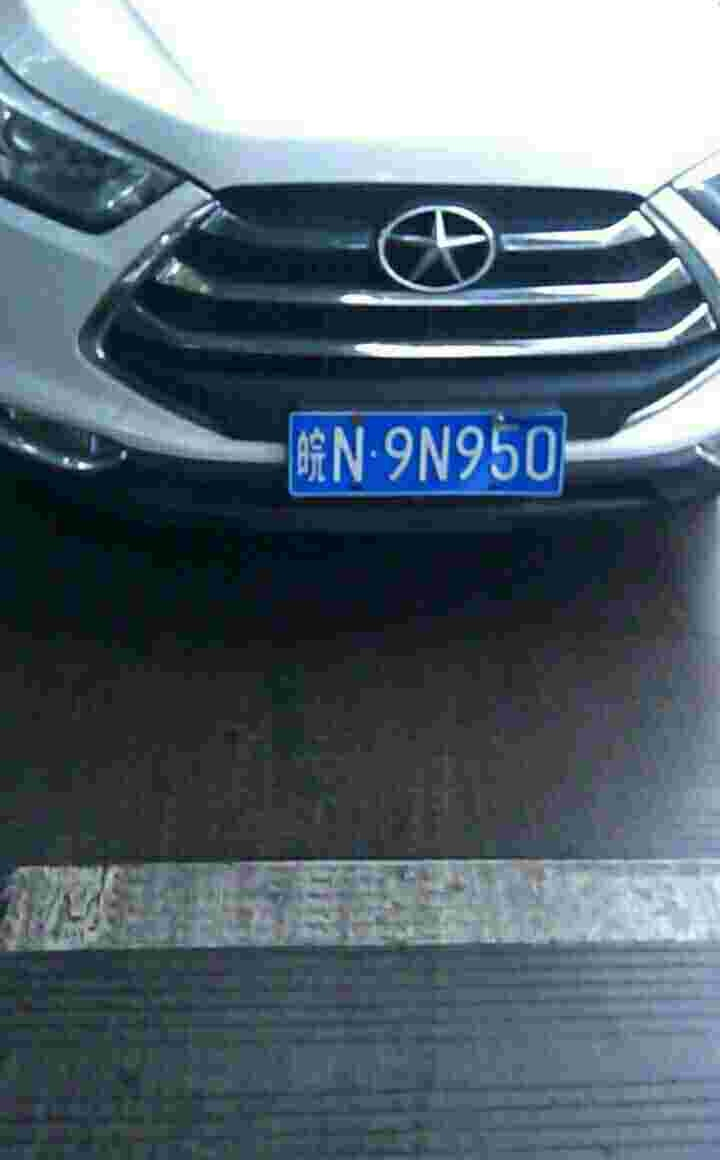license_plate: (274, 405, 566, 504)
